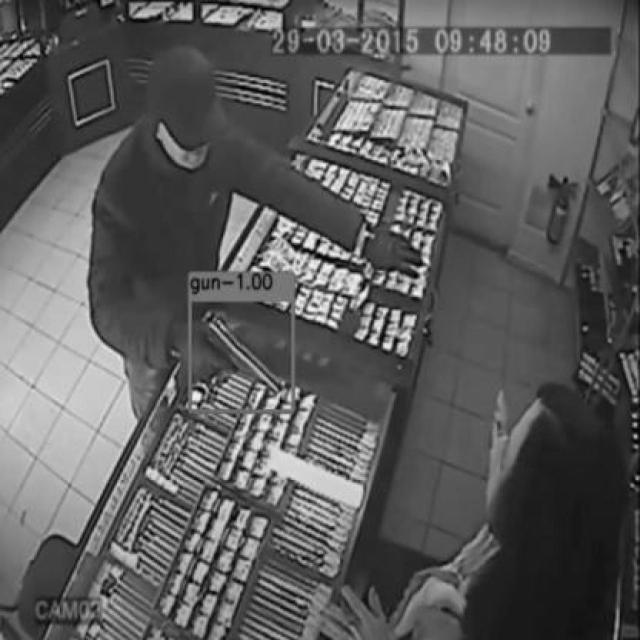weapon: (189, 309, 286, 400)
